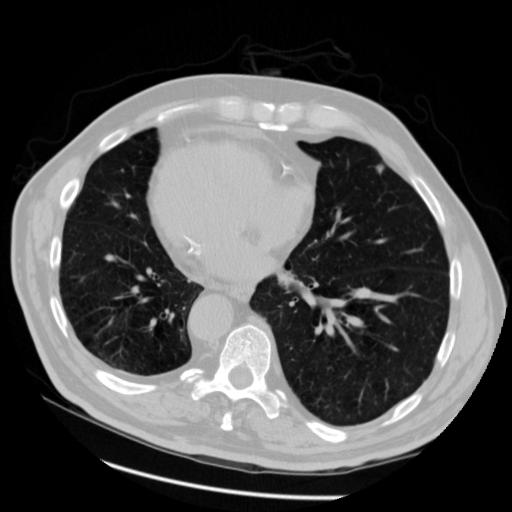nodule: (375, 162, 390, 177)
